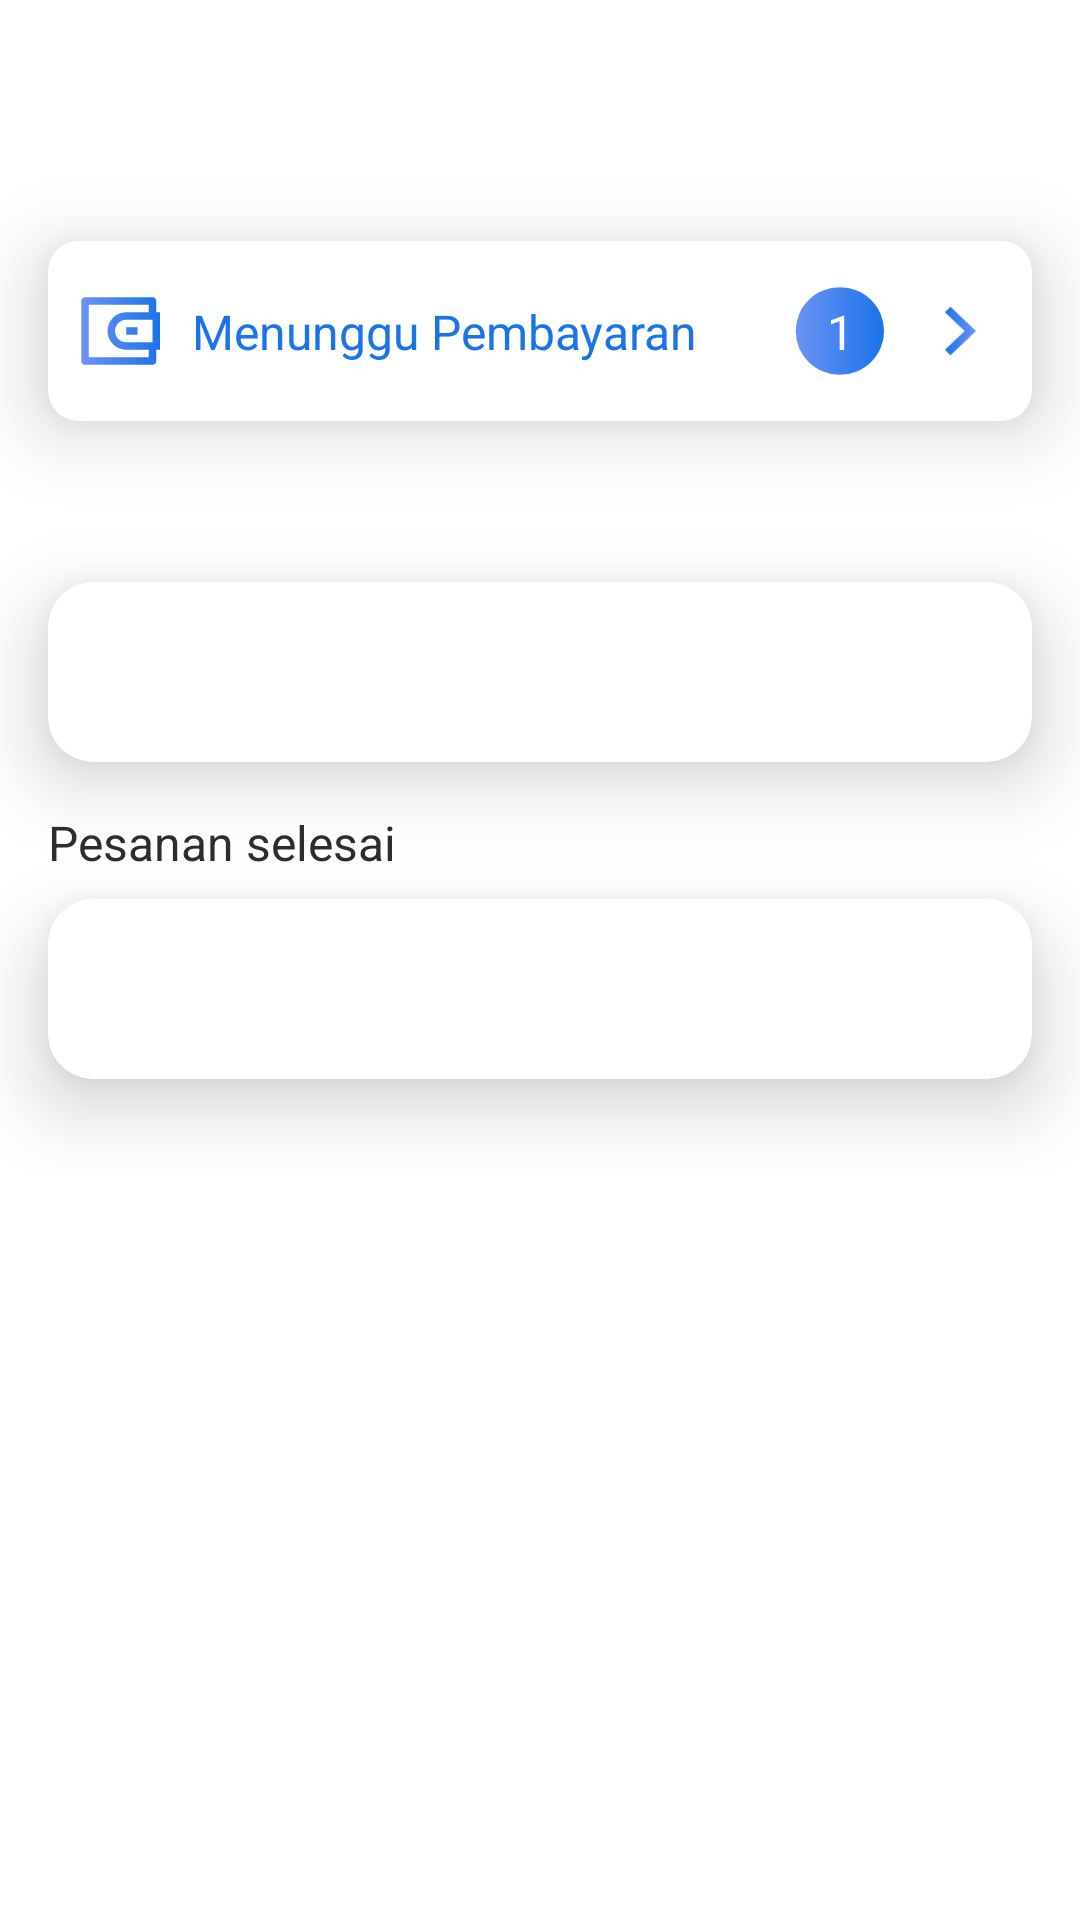

Screen size 1080w x 1920h. Icon name, then its box in pixels as (x1, y1, x2, y2):
dompet: (81, 297, 160, 365)
lingkaran biru: (795, 287, 884, 375)
panah kanan: (945, 306, 976, 356)
